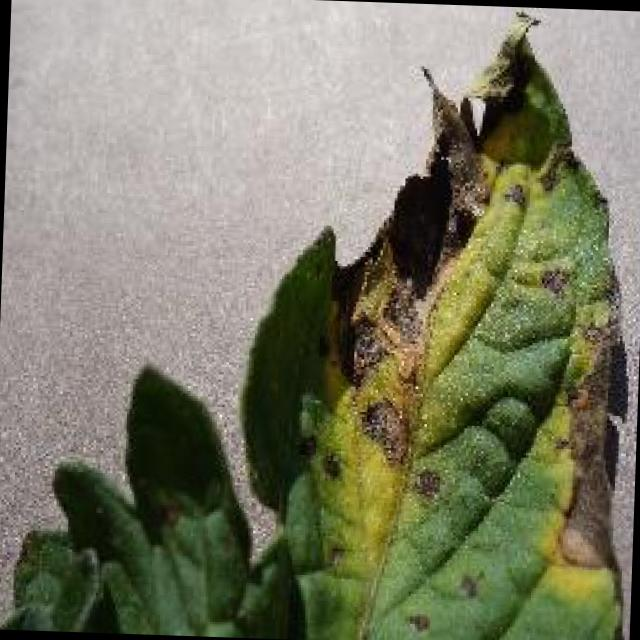Tomato_Early_Blight: (260, 16, 640, 640)
